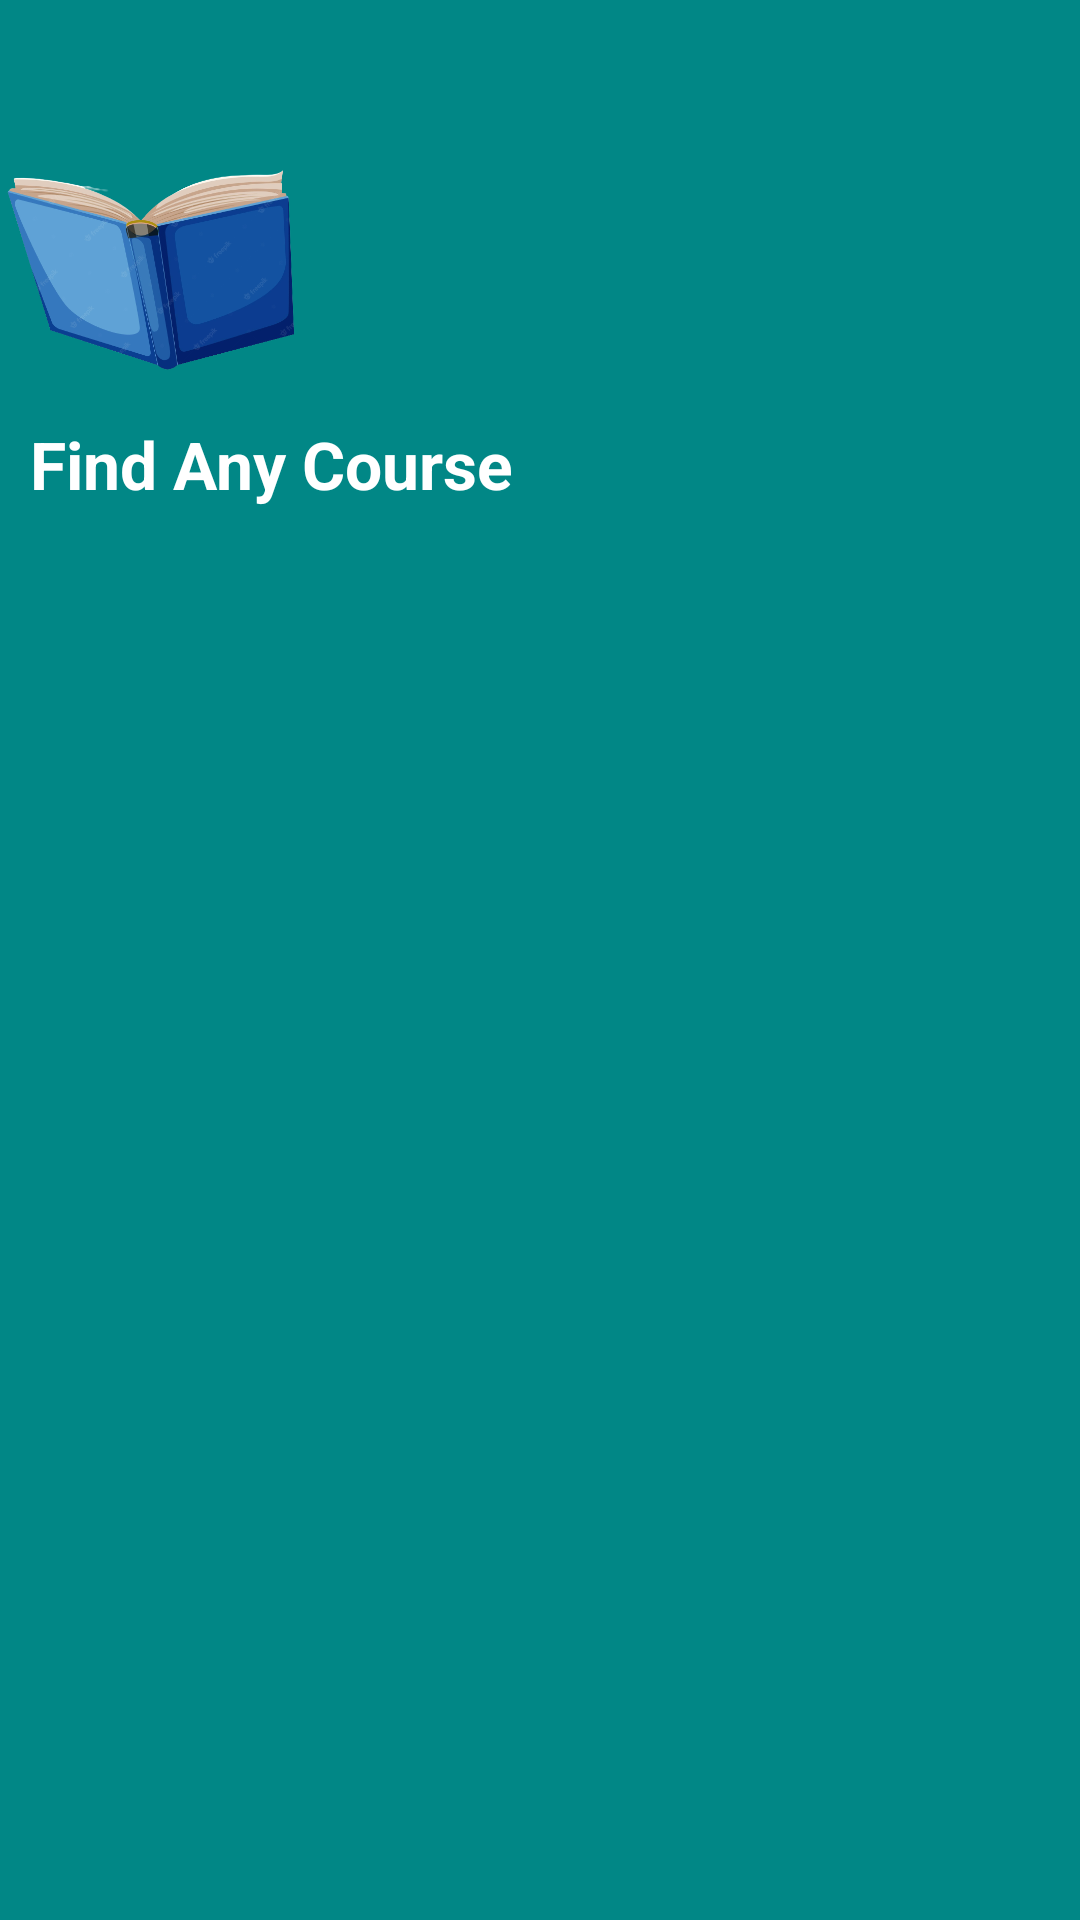

Screen size 1080 x 1920. Icon name, then its box in pixels as (x1, y1, x2, y2):
book: (8, 170, 294, 370)
